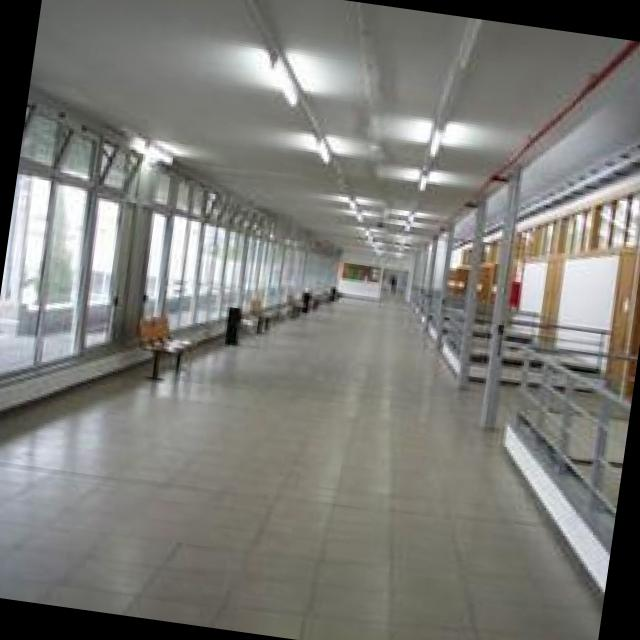2001: (0, 162, 55, 382), (40, 177, 96, 372), (82, 188, 142, 360), (521, 193, 640, 261), (22, 98, 67, 172), (58, 118, 102, 183), (98, 134, 146, 192)
2011: (137, 161, 341, 342)
base board: (0, 319, 224, 413)
beam: (480, 167, 526, 428), (458, 195, 490, 385)
bench crop: (138, 310, 195, 382), (251, 295, 280, 335)
ceiling beam: (32, 0, 632, 256)
door bars: (602, 246, 640, 396), (536, 261, 566, 348)
entryway: (382, 267, 409, 299)
floor -X: (0, 295, 599, 640)
pass window: (345, 261, 384, 283)
side table: (505, 338, 635, 567), (442, 298, 610, 394), (414, 283, 447, 350)
top: (455, 47, 640, 246)
track: (231, 0, 382, 251), (392, 17, 487, 254)
trash can: (224, 302, 245, 349)
wall clock: (558, 254, 620, 362), (335, 250, 418, 302), (516, 261, 548, 335)
